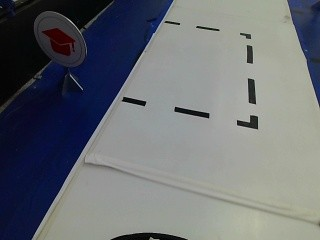school: (30, 16, 84, 71)
